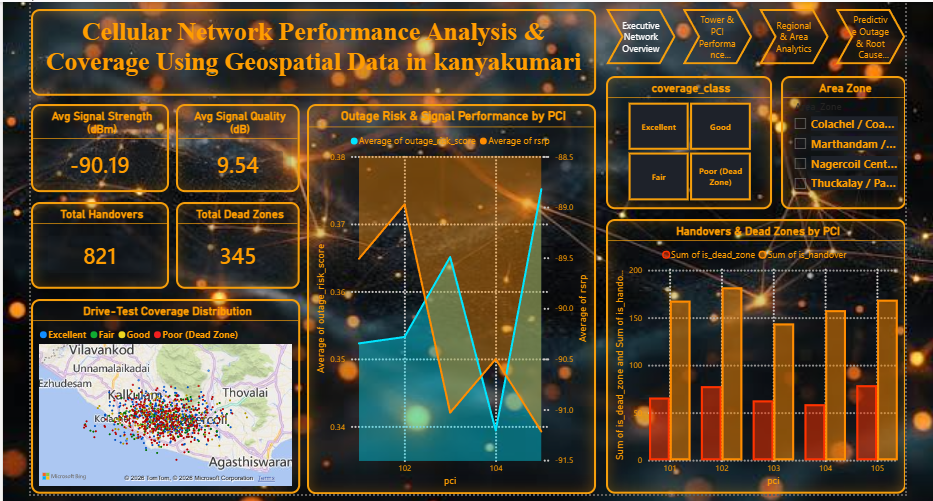

The dashboard page shown, as its layout file describes it:
{"tool":"powerbi","page":{"name":"Executive Network Overview","canvas":[1280,720],"ordinal":0},"visuals":[{"type":"areaChart","title":"Outage Risk & Signal Performance by PCI","fields":{"Category":["processed_drive_test.pci"],"Y":["Avg(processed_drive_test.outage_risk_score)"],"Y2":["Avg(processed_drive_test.rsrp)"]},"box":[403.9,149.3,422.9,570.7],"z":0},{"type":"cardVisual","title":"Avg Signal Strength (dBm)","fields":{"Data":["Avg(processed_drive_test.rsrp)"]},"box":[0,149.3,202,128.8],"z":1000},{"type":"cardVisual","title":"Avg Signal Quality (dB)","fields":{"Data":["Avg(processed_drive_test.sinr)"]},"box":[212.2,149.3,181.5,128.8],"z":2000},{"type":"map","title":"Drive-Test Coverage Distribution","fields":{"Series":["processed_drive_test.coverage_class"],"X":["processed_drive_test.longitude_kanyakumari"],"Y":["processed_drive_test.latitude_kanyakumari"]},"box":[0,434.6,393.7,285.4],"z":3000},{"type":"slicer","title":"coverage_class","fields":{"Values":["processed_drive_test.coverage_class"]},"box":[841.5,108.3,242.9,194.6],"z":4000},{"type":"slicer","title":"Area Zone","fields":{"Values":["processed_drive_test.Area_Zone"]},"box":[1097.6,108.3,182.9,194.6],"z":5000},{"type":"clusteredColumnChart","title":"Handovers & Dead Zones by PCI","fields":{"Category":["processed_drive_test.pci"],"Y":["Sum(processed_drive_test.is_dead_zone)","Sum(processed_drive_test.is_handover)"]},"box":[841.5,317.6,439,402.4],"z":6000},{"type":"cardVisual","title":"Total Handovers","fields":{"Data":["Sum(processed_drive_test.is_handover)"]},"box":[0,292.7,202,127.3],"z":7000},{"type":"cardVisual","title":"Total Dead Zones","fields":{"Data":["Sum(processed_drive_test.is_dead_zone)"]},"box":[212.2,292.7,181.5,127.3],"z":8000},{"type":"textbox","box":[0,10.2,826.8,127.3],"z":9000},{"type":"pageNavigator","box":[841.5,10.2,439,82],"z":10000}]}

Visuals, with their boxes in screenshot pixels (x1, y1, x2, y2):
"Outage Risk & Signal Performance by PCI" areaChart: pyautogui.locateOnScreen(304, 97, 594, 489)
"Avg Signal Strength (dBm)" cardVisual: pyautogui.locateOnScreen(27, 97, 165, 186)
"Avg Signal Quality (dB)" cardVisual: pyautogui.locateOnScreen(172, 97, 297, 186)
"Drive-Test Coverage Distribution" map: pyautogui.locateOnScreen(27, 293, 297, 489)
"coverage_class" slicer: pyautogui.locateOnScreen(604, 69, 770, 203)
"Area Zone" slicer: pyautogui.locateOnScreen(779, 69, 905, 203)
"Handovers & Dead Zones by PCI" clusteredColumnChart: pyautogui.locateOnScreen(604, 213, 905, 489)
"Total Handovers" cardVisual: pyautogui.locateOnScreen(27, 196, 165, 283)
"Total Dead Zones" cardVisual: pyautogui.locateOnScreen(172, 196, 297, 283)
textbox: pyautogui.locateOnScreen(27, 2, 594, 89)
pageNavigator: pyautogui.locateOnScreen(604, 2, 905, 58)
